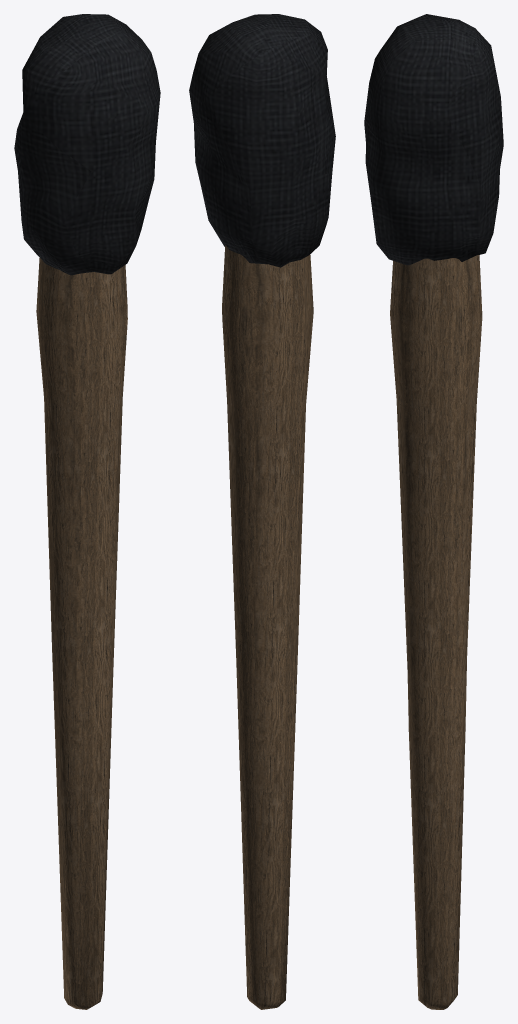
The model's file is torch.gltf.
3 views of the same model, side by side, from view 1: azimuth 30°, elevation 25°; view 2: azimuth 210°, elevation 25°; view 3: azimuth 270°, elevation 25° (orthographic).
Parts seen in each view (by area): view 1: Cylinder.001; view 2: Cylinder.001; view 3: Cylinder.001.
Part boxes in pixels (box(x1,y1,x2,y2)): Cylinder.001: box(14, 14, 160, 1009); Cylinder.001: box(189, 14, 335, 1009); Cylinder.001: box(364, 14, 503, 1009).
Bounding box in the file's own units: 0.073 × 0.5547 × 0.0712.
Materials: 1 (1 with a texture image).
